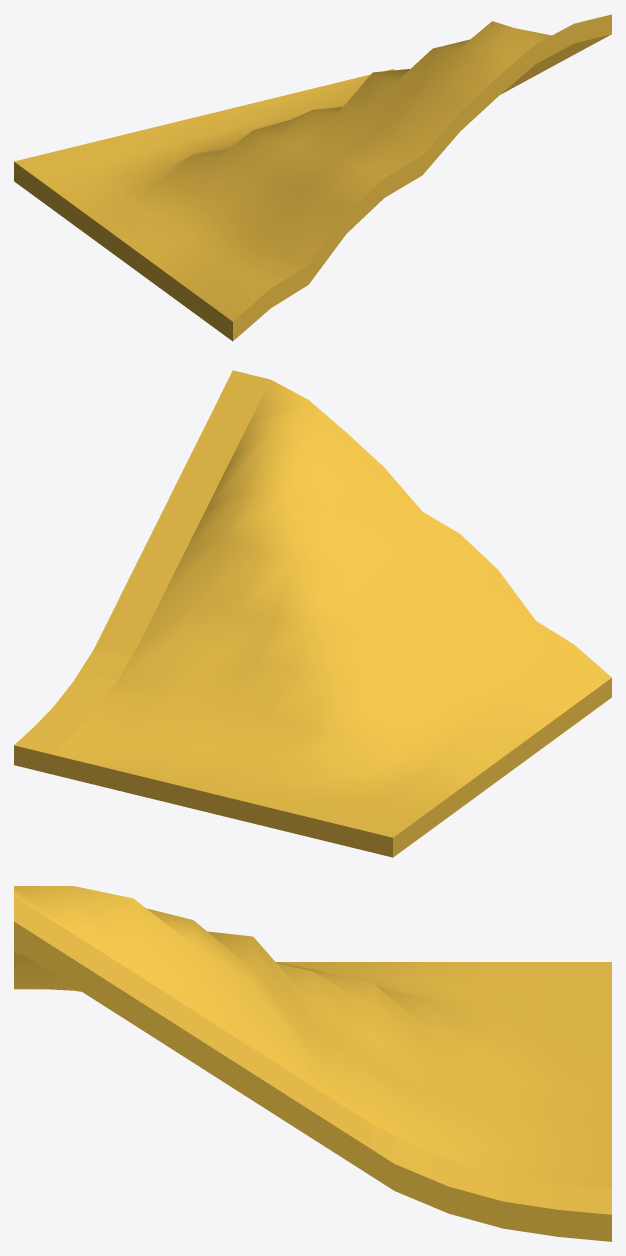
The model's file is Steil - Unten - Ecke x - b.fbx.
3 views of the same model, one above another, from view 1: azimuth 30°, elevation 25°; view 2: azimuth 150°, elevation 25°; view 3: azimuth 270°, elevation 25° (orthographic). The views are drawn at different scales.
Visible parts, largest first — view 1: Steil - Unten - Ecke x - b; view 2: Steil - Unten - Ecke x - b; view 3: Steil - Unten - Ecke x - b.
Part boxes in pixels (box(x1,y1,x2,y2)): Steil - Unten - Ecke x - b: box(14, 14, 611, 341); Steil - Unten - Ecke x - b: box(14, 370, 611, 857); Steil - Unten - Ecke x - b: box(14, 886, 611, 1241).
Bounding box in the file's own units: 394 × 233 × 394.
